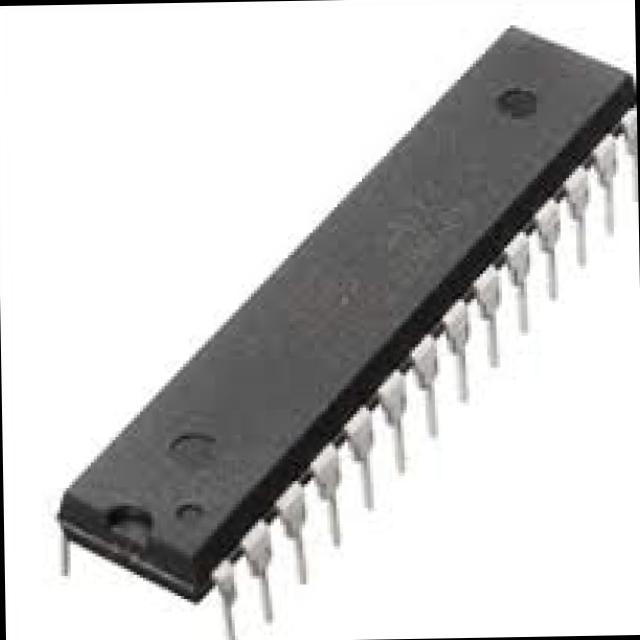atmega: (41, 16, 640, 640)
